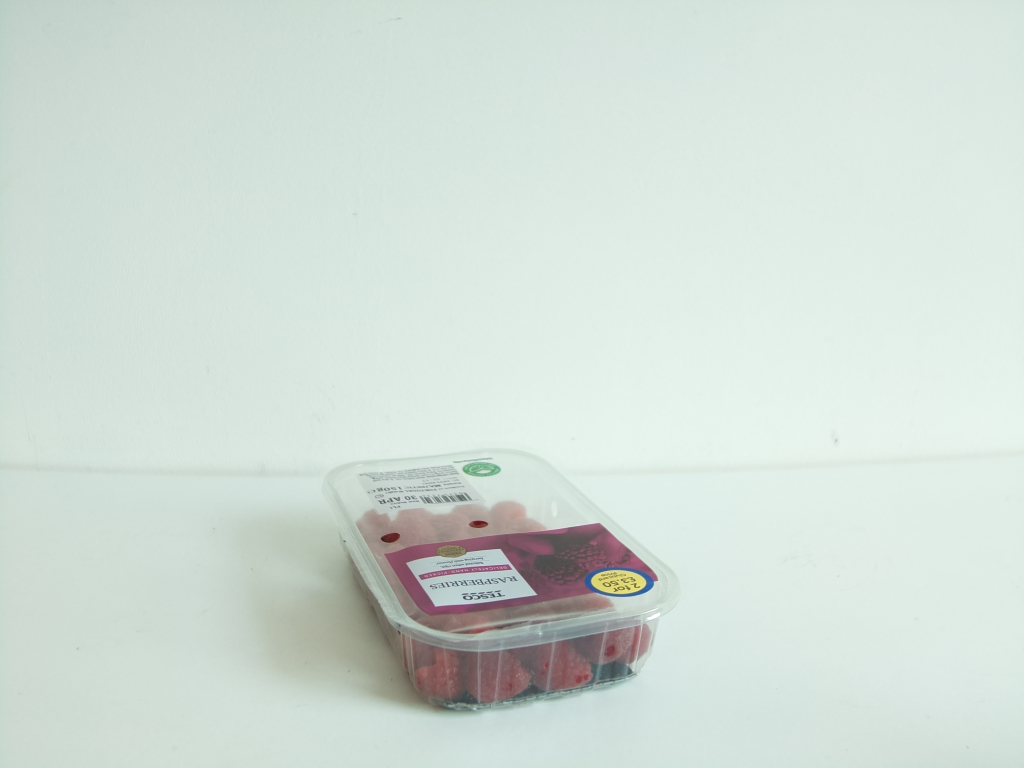soft-fruit: (333, 445, 673, 714)
